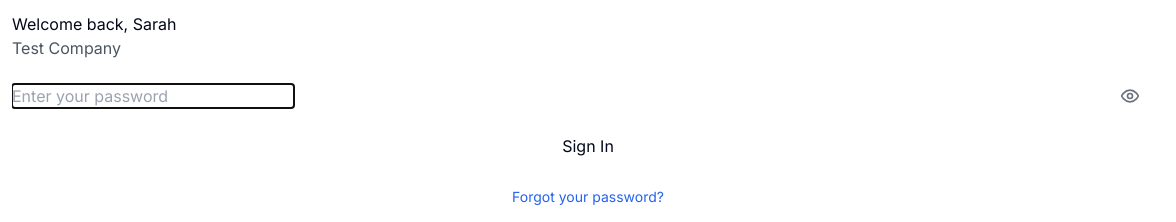
LoginForm › forgot password flow › should show forgot password message when link is clicked
Click the link "Forgot your password?" at (588, 196), box top-left (512, 188), bottom-right (664, 205)
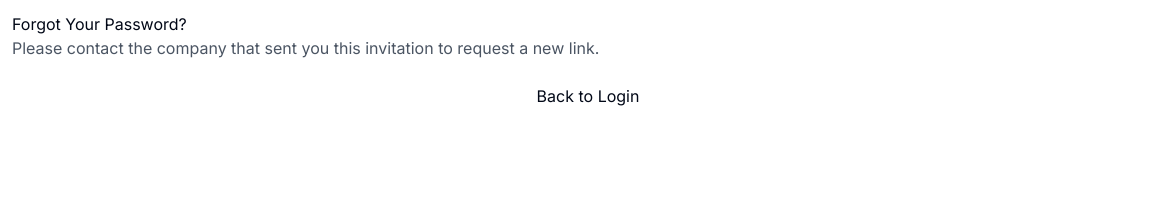
Expected: the heading "Forgot Your Password?" is shown, top-left (12, 14), bottom-right (187, 34)
Expected: the element with test id "forgot-password-message" is shown, top-left (12, 12), bottom-right (1164, 108)
Expected: the text "Please contact the company that sent you this invitation to request a new link." is shown, top-left (12, 38), bottom-right (599, 58)
